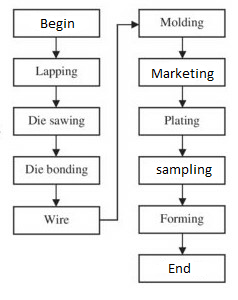arrow: (97, 19, 142, 223), (50, 134, 61, 157), (51, 183, 61, 208), (50, 85, 61, 107), (177, 36, 188, 58), (177, 85, 188, 107), (176, 233, 187, 255), (177, 183, 187, 206), (51, 36, 61, 58), (177, 135, 187, 157)
process: (11, 104, 102, 138), (136, 203, 228, 236), (11, 7, 102, 40), (137, 7, 228, 40), (136, 56, 227, 89), (11, 56, 102, 89), (136, 105, 227, 138), (136, 154, 227, 187), (11, 204, 102, 237), (136, 252, 227, 285), (11, 154, 102, 187)
text: (24, 162, 91, 177), (155, 162, 214, 179), (150, 67, 216, 82), (26, 113, 87, 129), (159, 14, 205, 30), (159, 212, 206, 227), (34, 65, 78, 80), (163, 114, 201, 129), (38, 17, 76, 31), (43, 213, 70, 226), (167, 262, 192, 276)
